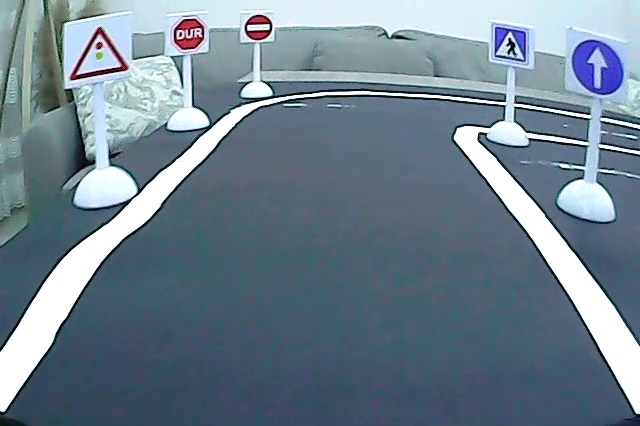do not enter: (243, 12, 274, 43)
pedestrian crossing: (492, 24, 531, 67)
red light: (68, 22, 133, 85)
stop sign: (170, 14, 209, 55)
